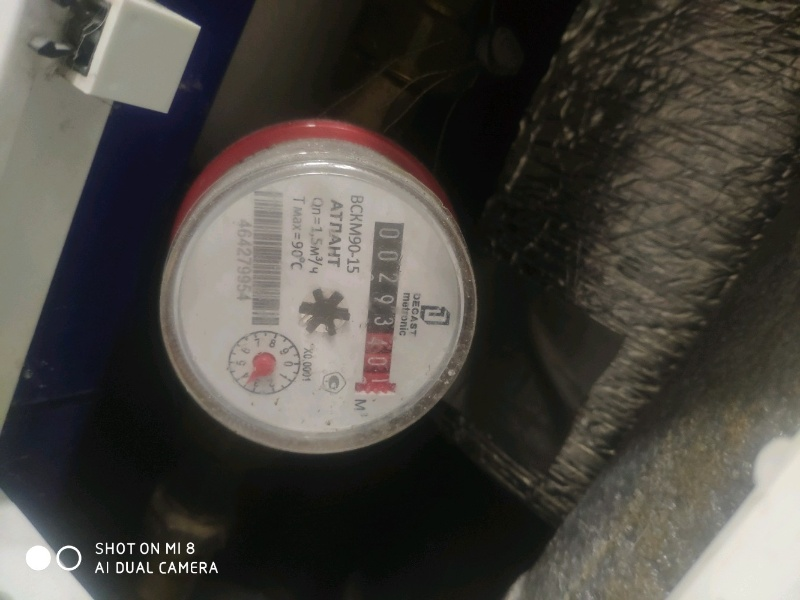meter: (368, 220, 414, 400)
